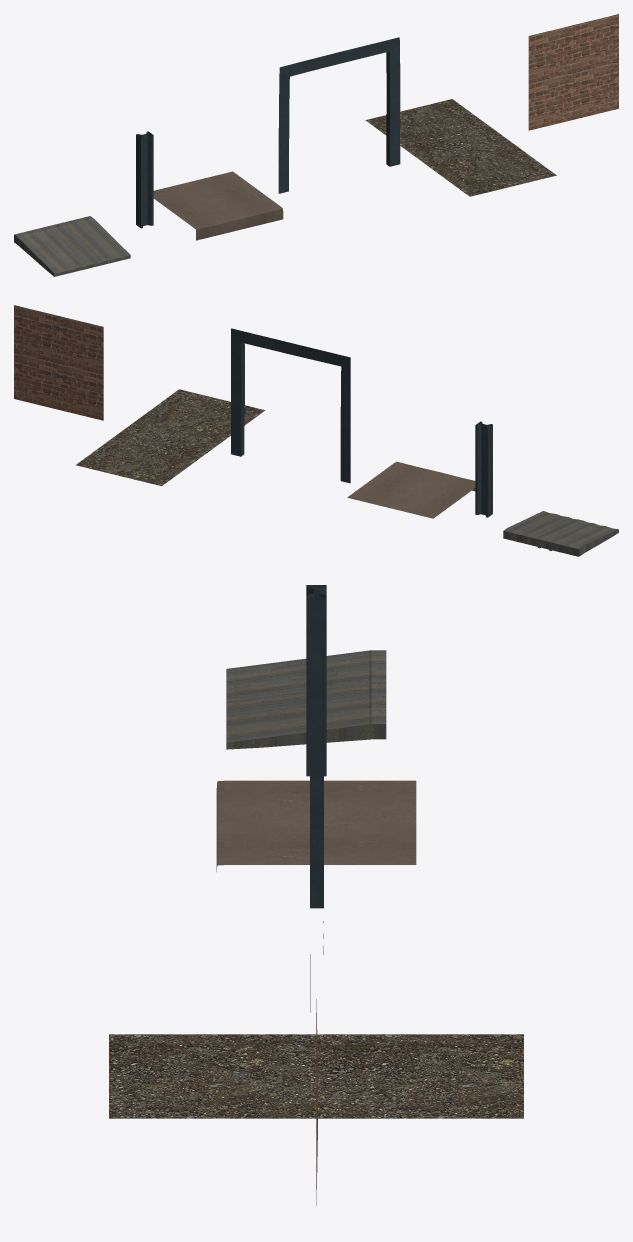
File: tileset.glb
The picture shows the model from 3 angles, top to bottom: view 1: azimuth 30°, elevation 25°; view 2: azimuth 150°, elevation 25°; view 3: azimuth 270°, elevation 25°; orthographic projection. The views are drawn at different scales.
Visible parts, largest first — view 1: Wall-col, Under_Track-col, Side_Walk-col, Tunnel_Frame-col, Walk_Roof-col, Pillar-col; view 2: Under_Track-col, Wall-col, Tunnel_Frame-col, Side_Walk-col, Walk_Roof-col, Pillar-col; view 3: Under_Track-col, Side_Walk-col, Walk_Roof-col, Tunnel_Frame-col, Pillar-col.
Boxes of the visible parts, bbox=[...] form: Wall-col: bbox=[528, 14, 618, 130]; Under_Track-col: bbox=[365, 99, 556, 196]; Side_Walk-col: bbox=[153, 171, 283, 240]; Tunnel_Frame-col: bbox=[278, 37, 400, 193]; Walk_Roof-col: bbox=[14, 216, 130, 276]; Pillar-col: bbox=[136, 131, 153, 228]; Under_Track-col: bbox=[75, 389, 264, 486]; Wall-col: bbox=[14, 305, 103, 420]; Tunnel_Frame-col: bbox=[231, 328, 350, 483]; Side_Walk-col: bbox=[347, 461, 475, 518]; Walk_Roof-col: bbox=[503, 511, 618, 556]; Pillar-col: bbox=[475, 421, 492, 517]; Under_Track-col: bbox=[109, 1034, 523, 1118]; Side_Walk-col: bbox=[216, 780, 416, 871]; Walk_Roof-col: bbox=[226, 650, 386, 749]; Tunnel_Frame-col: bbox=[308, 647, 323, 1012]; Pillar-col: bbox=[306, 585, 326, 776].
Size of the model in its own units: 110 by 24.59 by 33.8.
6 materials, 6 textured.
